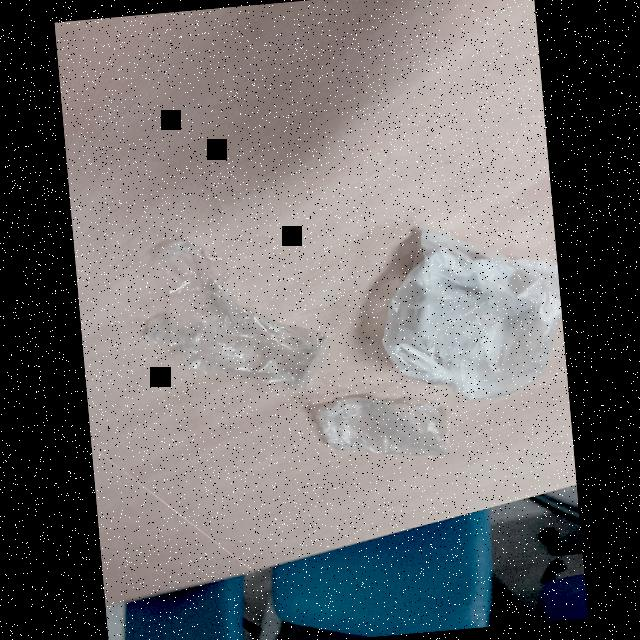plastic_bag: (360, 218, 562, 412)
scrap_plastic: (122, 215, 342, 428), (310, 386, 453, 472)
